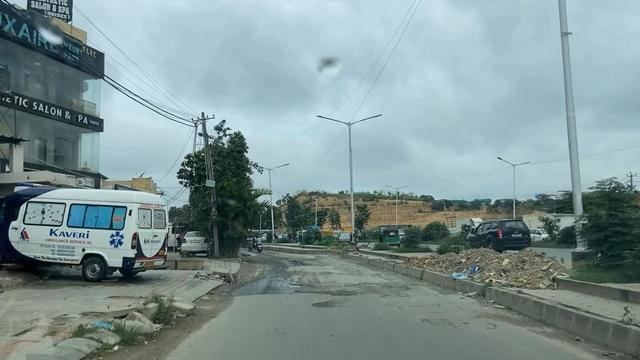RoadDamages: (239, 271, 357, 306), (357, 274, 416, 302)
